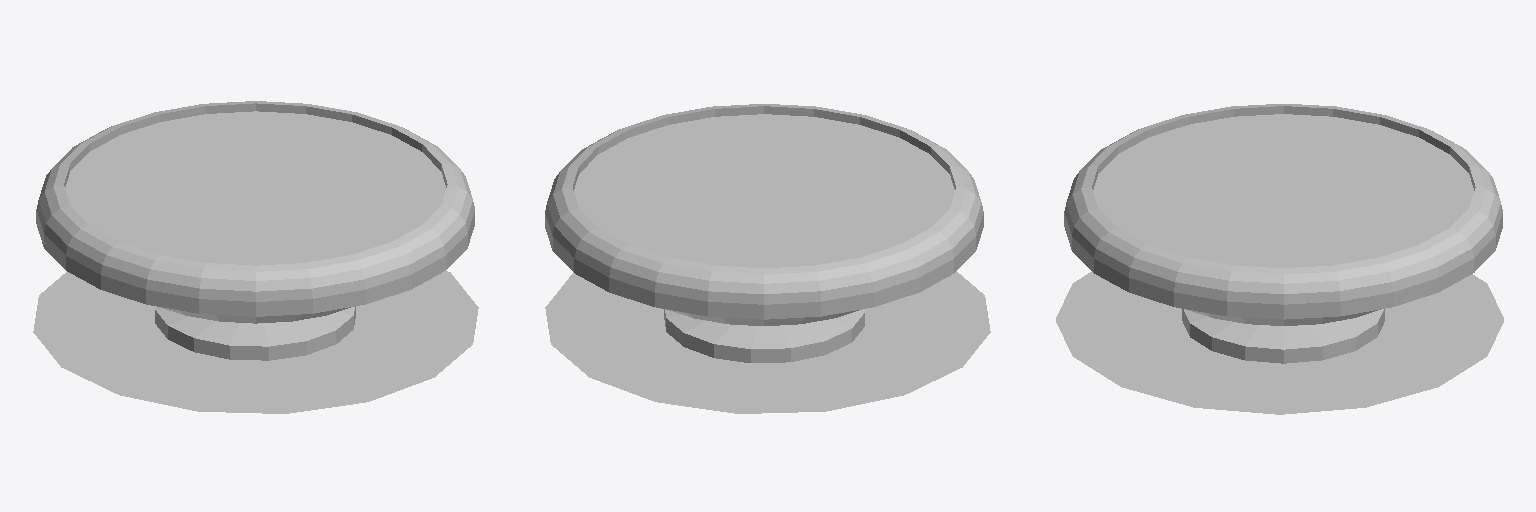
File: table.obj
3 views of the same model, side by side, from view 1: azimuth 30°, elevation 25°; view 2: azimuth 150°, elevation 25°; view 3: azimuth 270°, elevation 25° (orthographic).
Parts seen in each view (by area): view 1: Mesh_0010_Mesh_0010Mesh; view 2: Mesh_0010_Mesh_0010Mesh; view 3: Mesh_0010_Mesh_0010Mesh.
Part boxes in pixels (x1,y1,x2,y2): Mesh_0010_Mesh_0010Mesh: (33,101,478,413); Mesh_0010_Mesh_0010Mesh: (545,104,990,413); Mesh_0010_Mesh_0010Mesh: (1056,104,1503,414).
Bounding box in the file's own units: 0.4723 × 0.1616 × 0.4723.